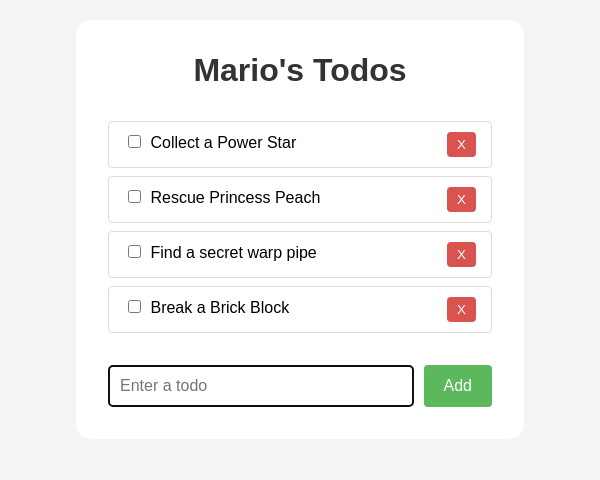
Todo List › Adds a new todo
This screenshot has width=600, height=480.
Type "Jump on Goombas" into the field with id "todo-input" at (261, 386), box [108,365,414,407]
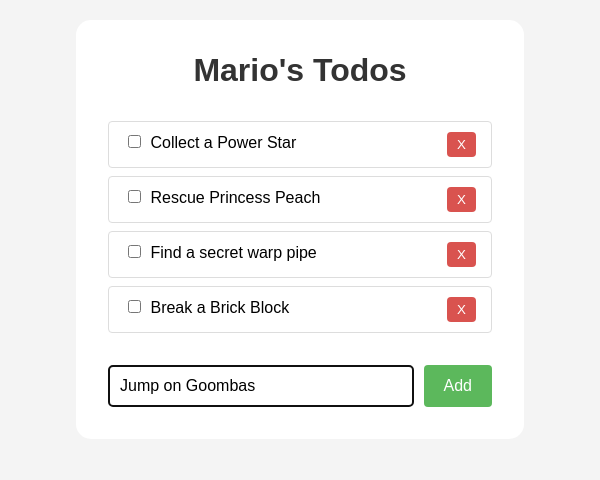
Submit the form with test id "todo-form", box [108,365,492,407]
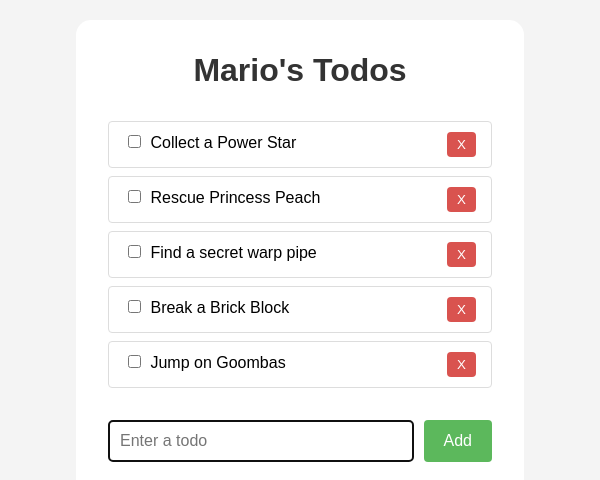
Expected: the number of list items is 5, [108,121,492,168]; [108,176,492,223]; [108,231,492,278]; [108,286,492,333]; [108,341,492,388]
Expected: the text "Jump on Goombas" is shown, [150,354,286,371]
